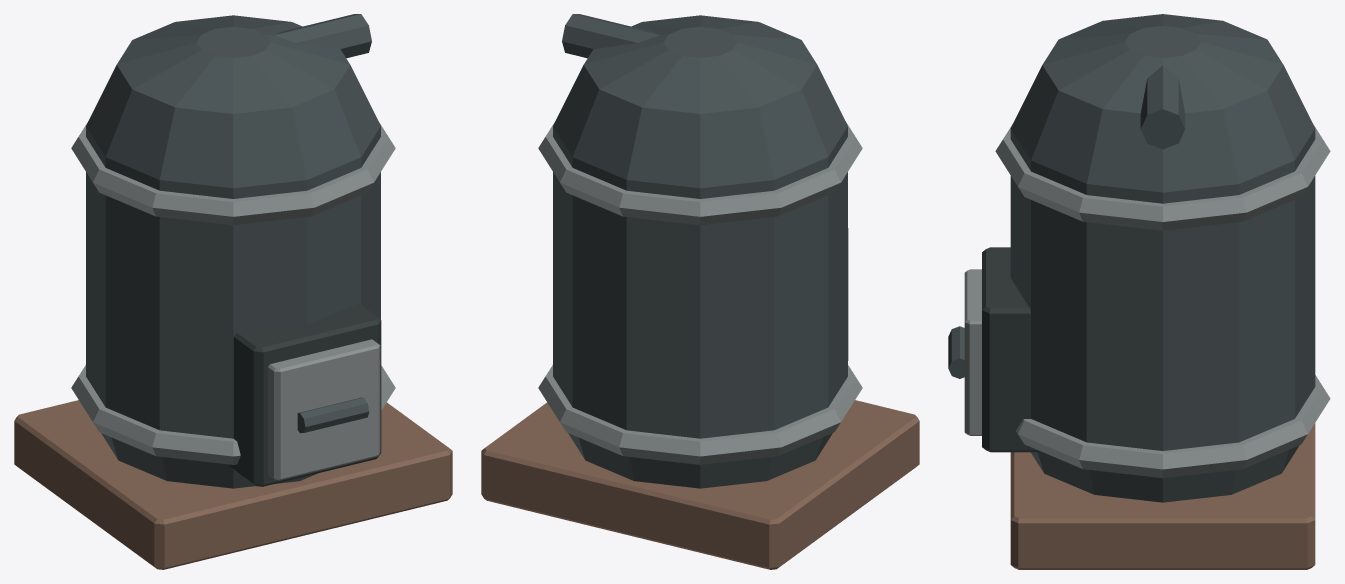
The model's file is compact-boiler.glb.
3 views of the same model, side by side, from view 1: azimuth 30°, elevation 25°; view 2: azimuth 150°, elevation 25°; view 3: azimuth 270°, elevation 25° (orthographic). The views are drawn at different scales.
Parts seen in each view (by area): view 1: compact-boiler__body; view 2: compact-boiler__body; view 3: compact-boiler__body.
Part boxes in pixels (x1=…): compact-boiler__body: x1=14, y1=14, x2=452, y2=569; compact-boiler__body: x1=481, y1=14, x2=919, y2=569; compact-boiler__body: x1=948, y1=14, x2=1330, y2=569.
Bounding box in the file's own units: 0.56 × 0.79 × 0.602.
